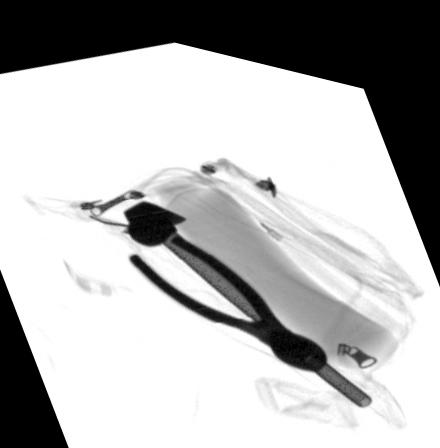Hammer: (122, 193, 371, 389)
Pliers: (129, 226, 328, 357)
